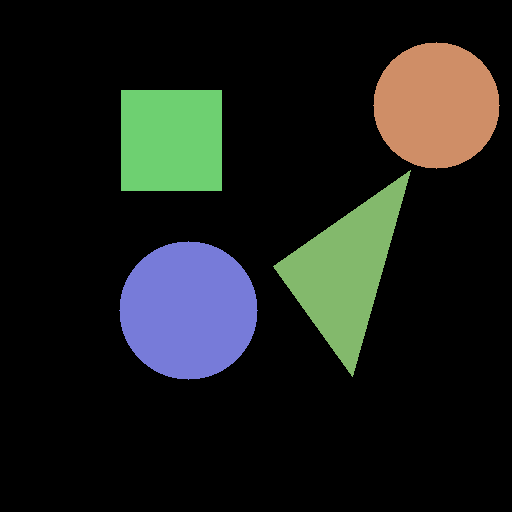circle: (119, 241, 257, 379), (373, 42, 499, 168)
square: (121, 90, 221, 190)
triangle: (273, 170, 410, 376)
